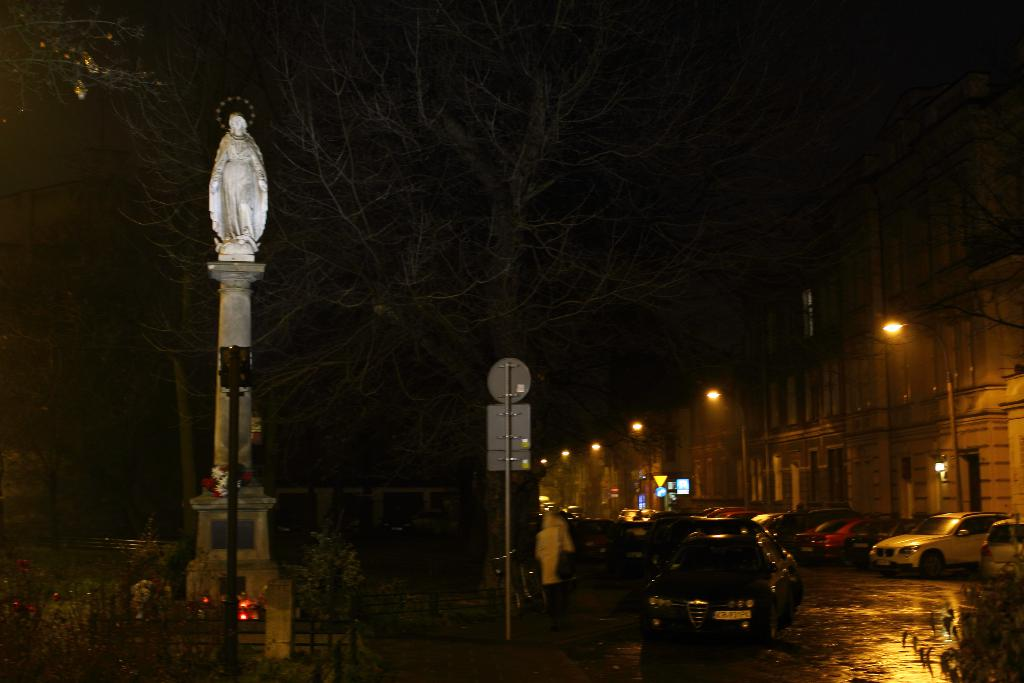mobil: (871, 512, 1001, 577)
